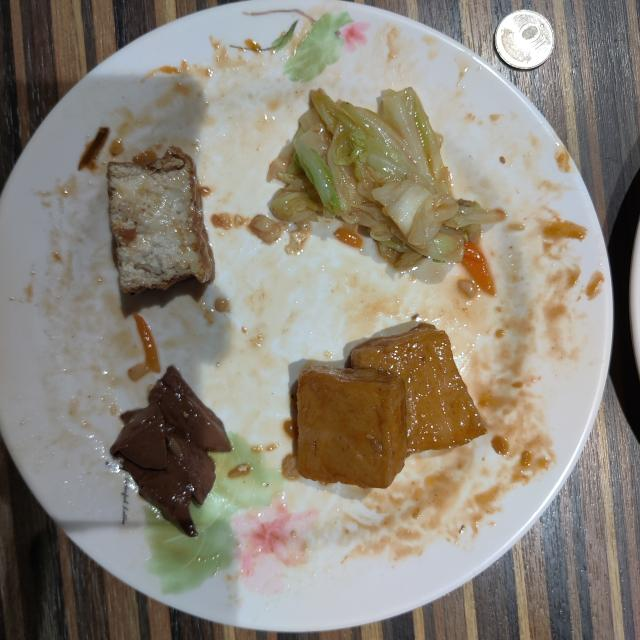cabbage: (268, 88, 505, 298)
coin: (495, 10, 554, 69)
creamy tofu: (296, 322, 486, 489)
egg tofu: (108, 146, 215, 292)
pig blood curd: (110, 366, 231, 536)
